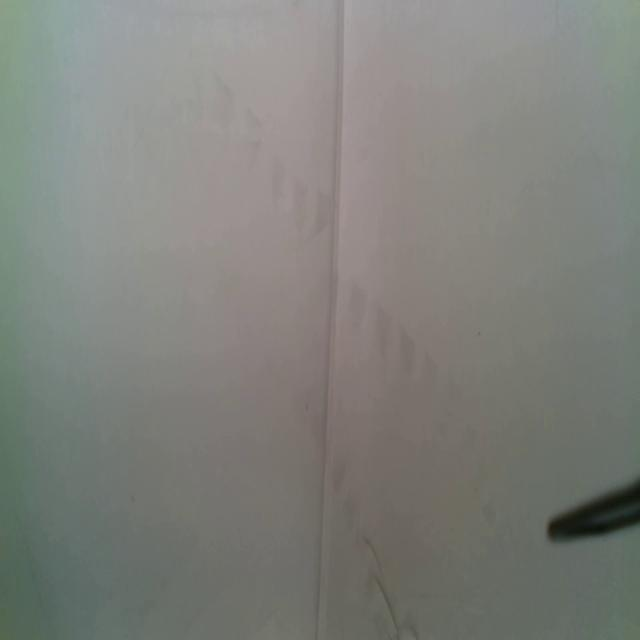crease: (312, 0, 348, 640)
